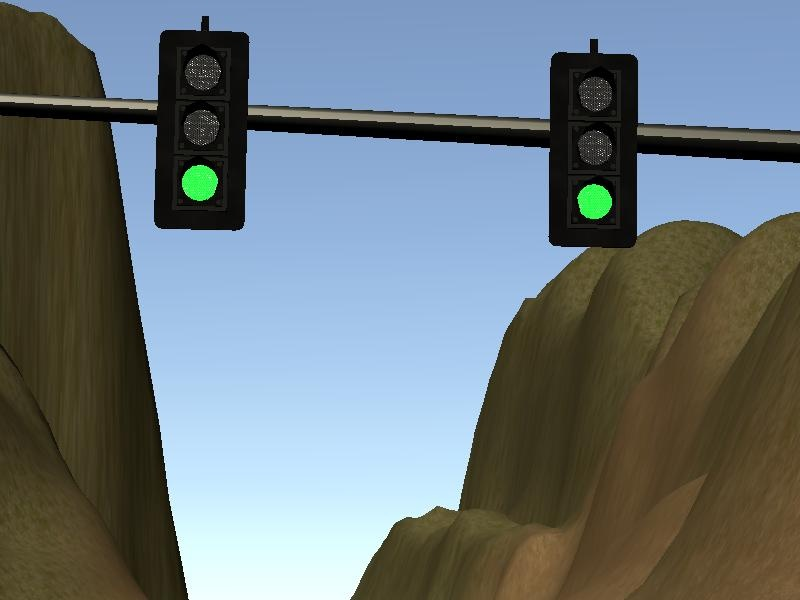green: (151, 12, 256, 243), (545, 28, 645, 259)
